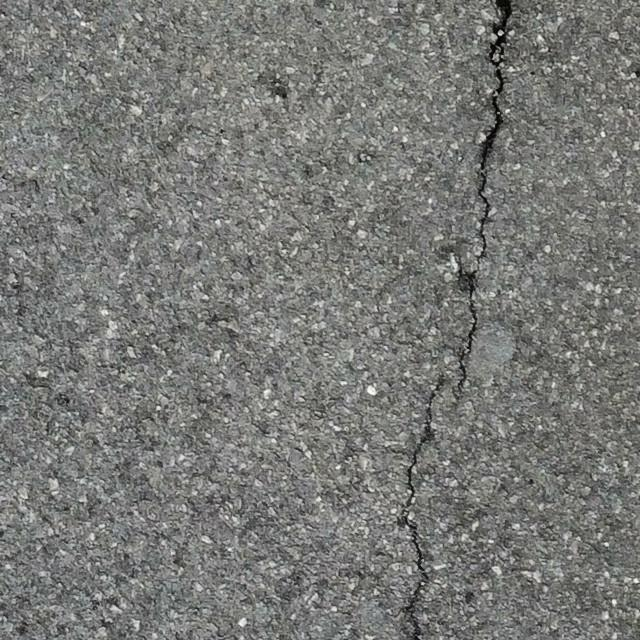LongitudinalCrack: (456, 1, 512, 398), (397, 372, 453, 640)
